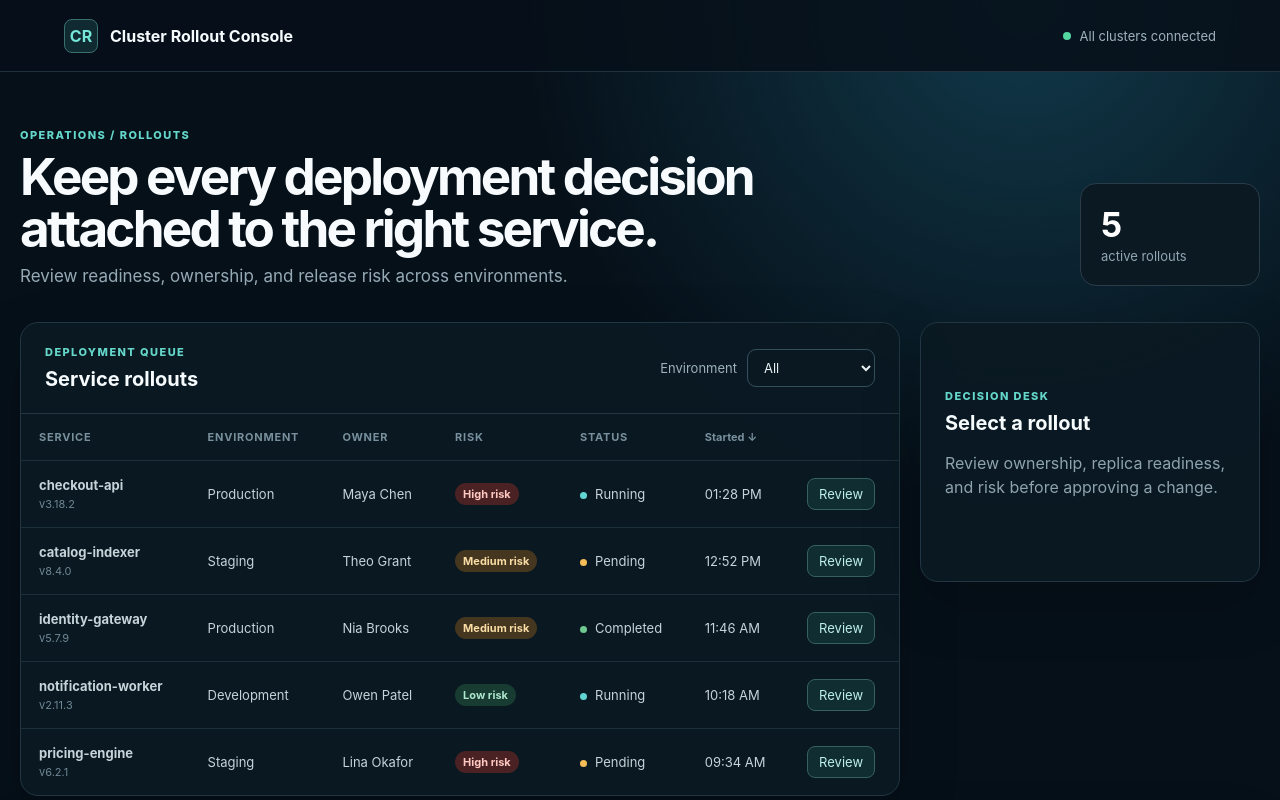
Test: Cluster Rollout Console › opens the selected rollout in the decision desk
Step 1. Click the button "Review" in the row of "v3.18.2" → (841, 494), box [807,478,875,510]
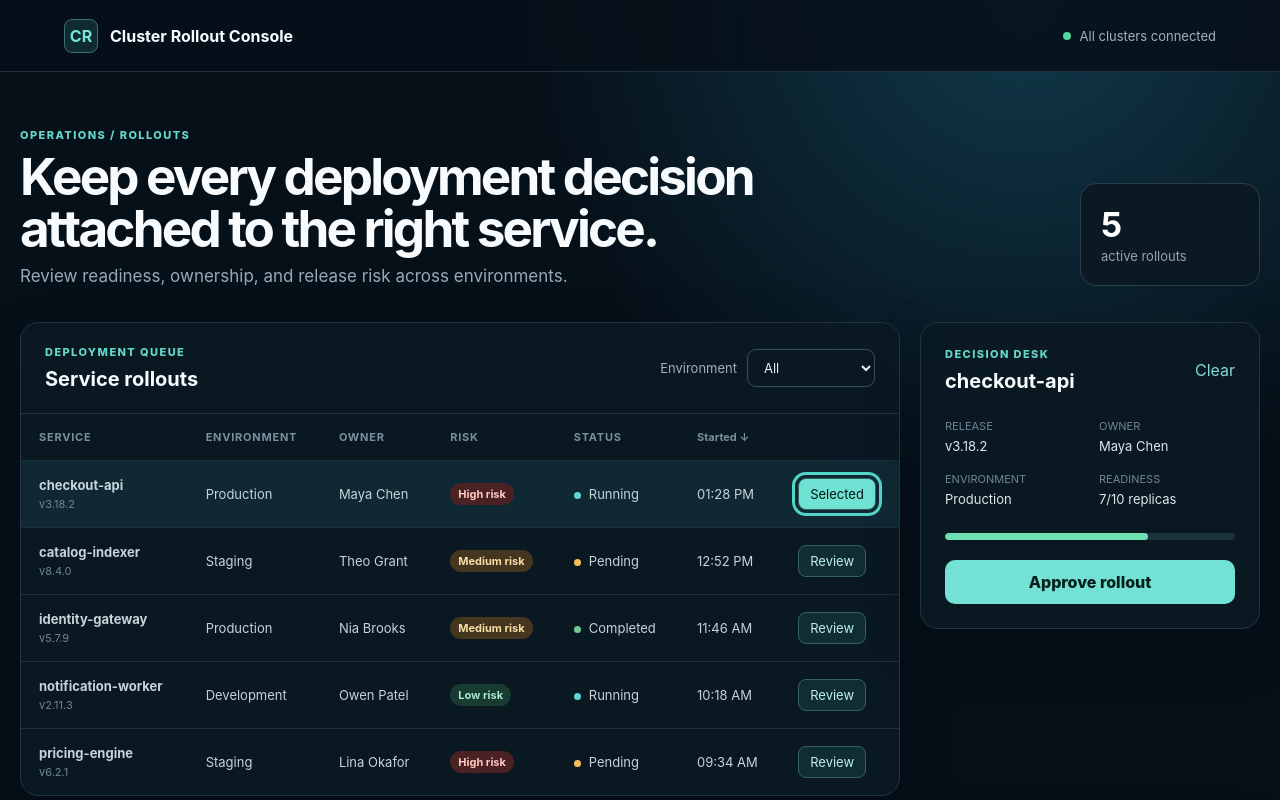
Now the heading "checkout-api" is shown, box [945,369,1075,393]
